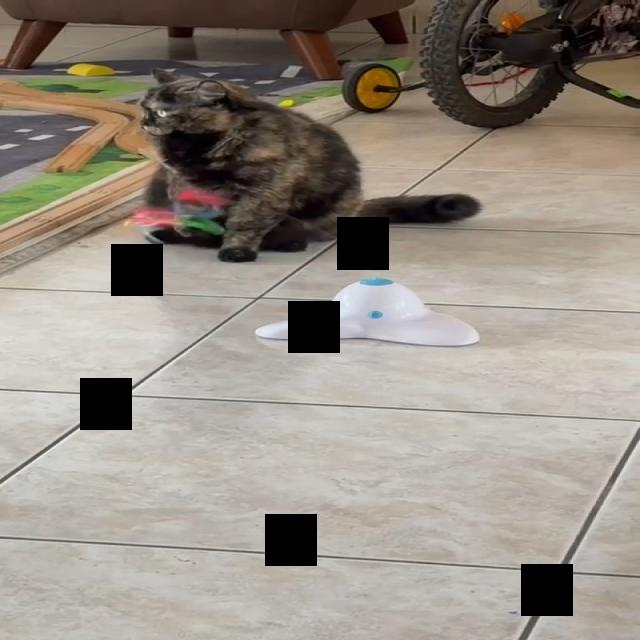authorized: (136, 66, 481, 262)
